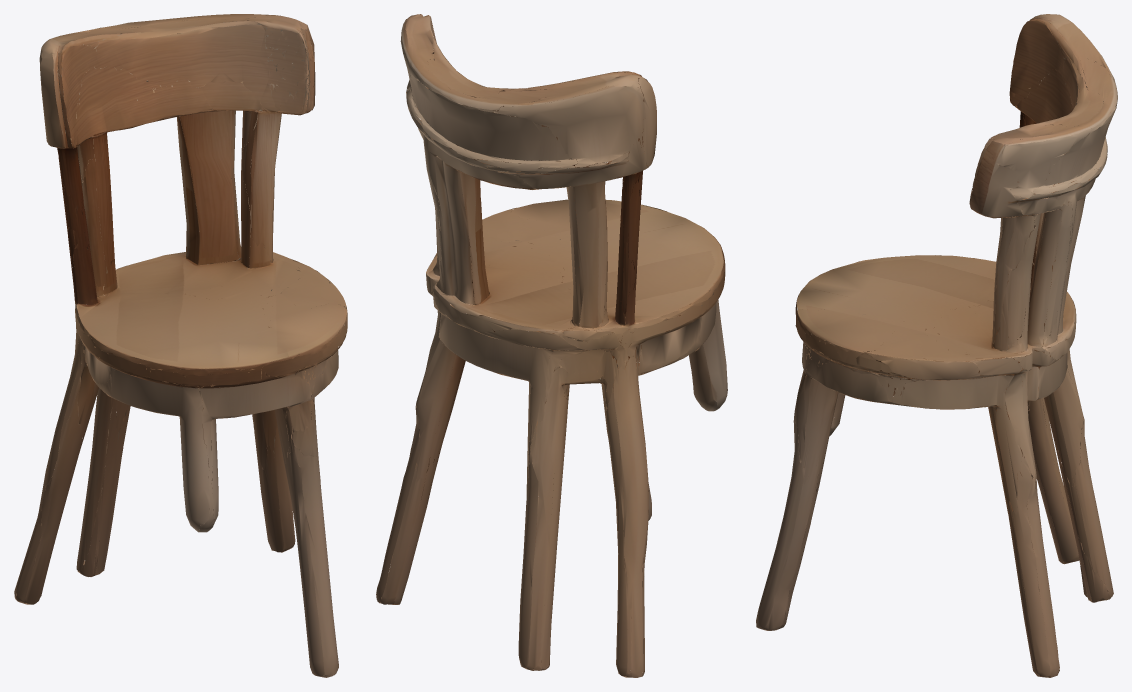
File: hunyuan-chair.glb
3 views of the same model, side by side, from view 1: azimuth 30°, elevation 25°; view 2: azimuth 150°, elevation 25°; view 3: azimuth 270°, elevation 25° (orthographic). The views are drawn at different scales.
Visible parts, largest first — view 1: node_0; view 2: node_0; view 3: node_0.
Boxes of the visible parts, x1,y1,x2,y2 form: node_0: [14, 14, 347, 677]; node_0: [376, 14, 727, 677]; node_0: [756, 14, 1117, 677].
Size of the model in its own units: 0.4977 by 1 by 0.5957.
Materials: 1 (1 with a texture image).
